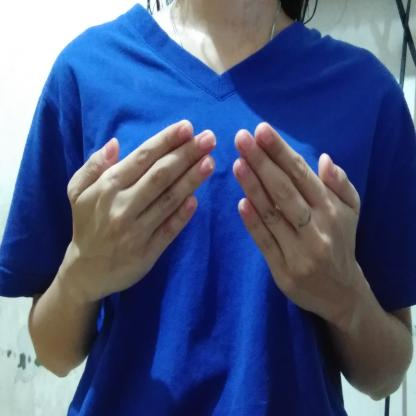night: (62, 115, 373, 316)
